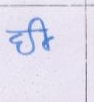i_matra: (33, 17, 53, 51)
